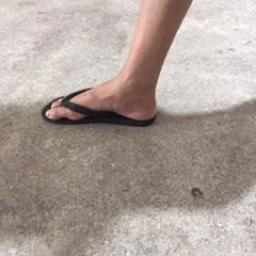Medial View -Right Foot-: (37, 52, 171, 131)
